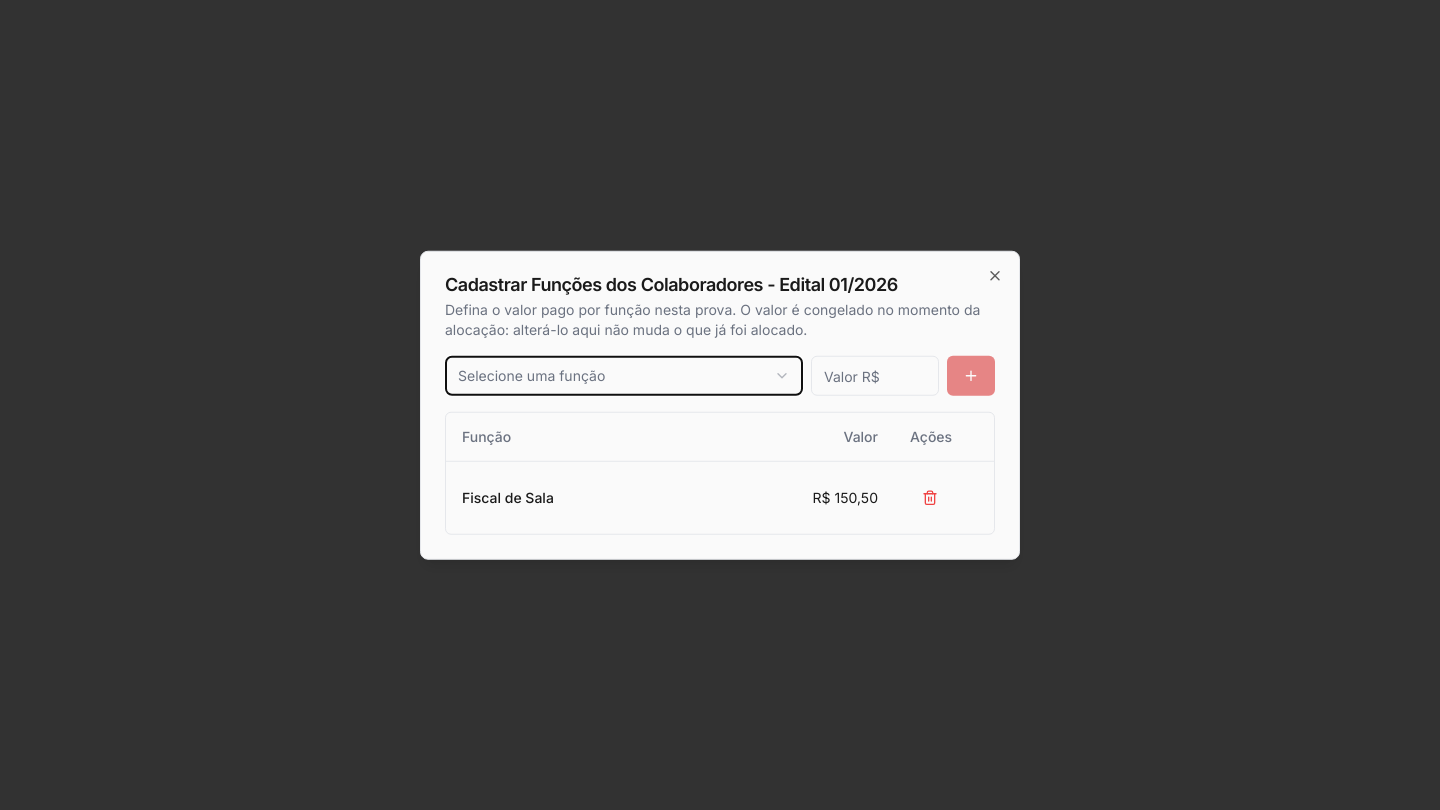
ValoresFuncaoProvaDialog (interação) › a tabela de valores › excluir valor pede confirmação › abre a confirmação em vez de apagar
Click the button without text in the row of "Fiscal de Sala": point(930, 497) 910,477 -> 950,517
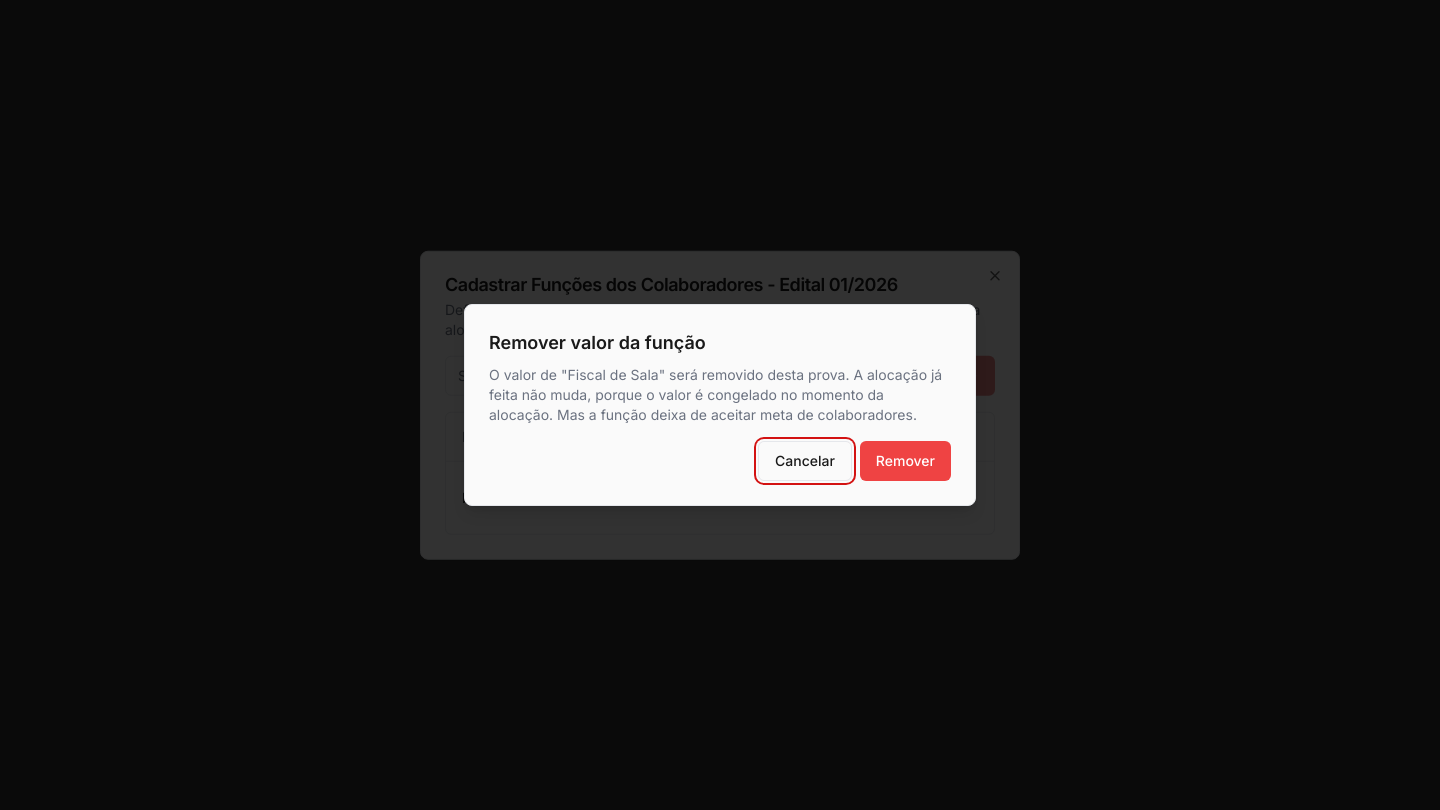
Check: the heading "Remover valor da função" is shown, box 489,332 -> 706,353
Check: the text "deixa de aceitar meta" is shown, box 489,366 -> 942,423
